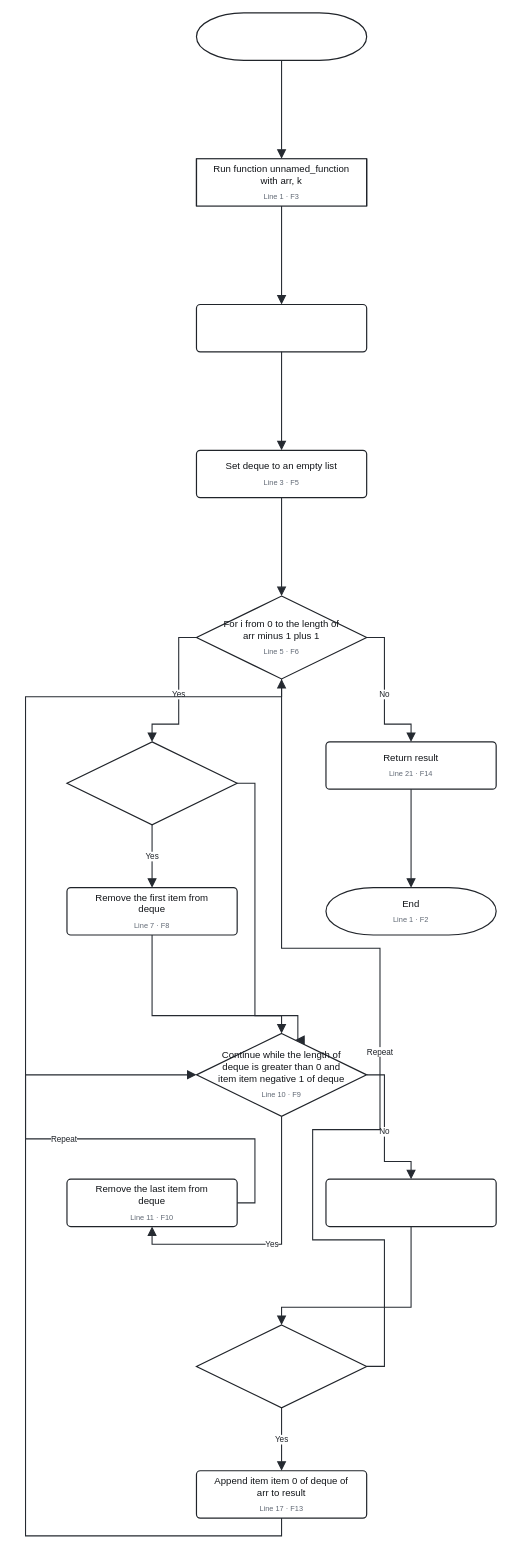
Image size: 510x1550. Some labels were removed from this diagram. The shapes that lost their labels are listed below. From the top down, each one's box as (x1, y1, x2, y2) in pixels, then its label:
(196, 12, 367, 61): Start Line 1 · F1
(196, 304, 367, 352): Set result to an empty list Line 2 · F4
(66, 741, 237, 825): Item 0 of deque is equal to i minus k? Line 6 · F7
(325, 1178, 496, 1227): Append i to deque Line 14 · F11
(196, 1324, 367, 1408): I is greater than or equal to k minus 1? Line 16 · F12
